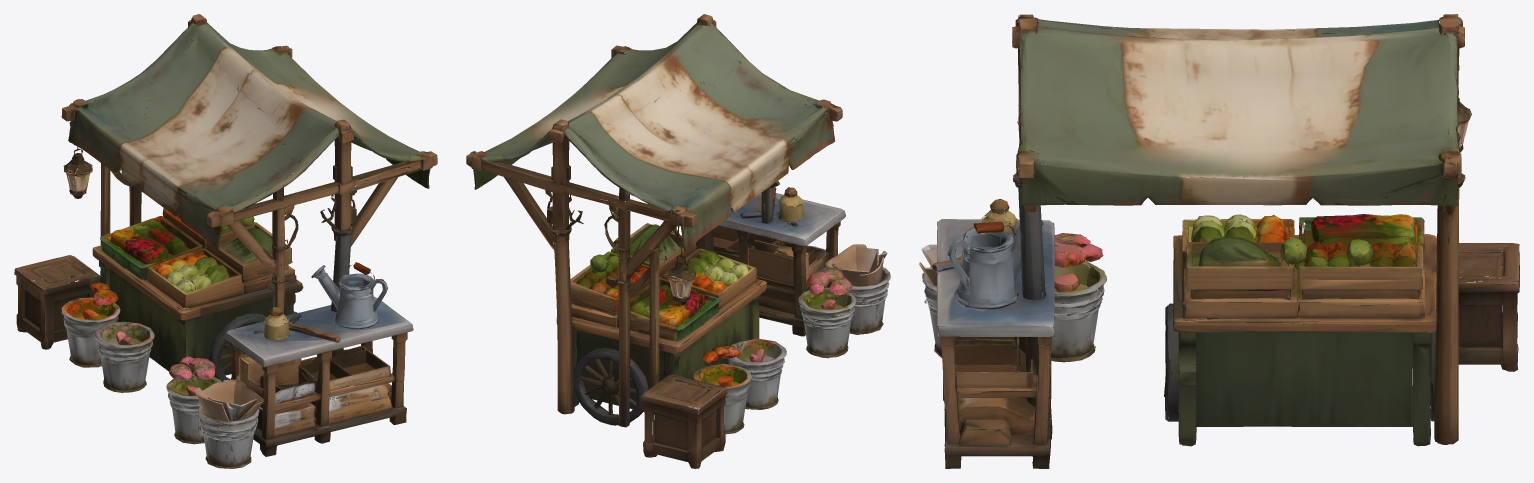
File: env-flower-stall.glb
3 renders of one model, left to right at view 1: azimuth 30°, elevation 25°; view 2: azimuth 150°, elevation 25°; view 3: azimuth 270°, elevation 25°, orthographic. The views are drawn at different scales.
Parts seen in each view (by area): view 1: env-flower-stall; view 2: env-flower-stall; view 3: env-flower-stall.
Boxes of the visible parts, bbox=[...] form: env-flower-stall: bbox=[14, 14, 437, 468]; env-flower-stall: bbox=[466, 14, 890, 468]; env-flower-stall: bbox=[919, 14, 1519, 468].
Bounding box in the file's own units: 2.14 × 2.36 × 3.
Materials: 1 (1 with a texture image).
